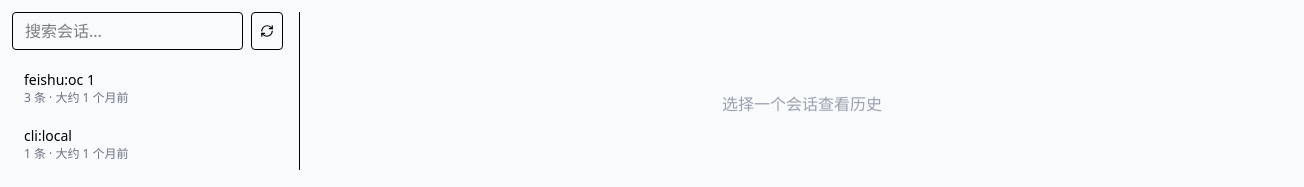
it: Sessions 页 › 点击会话按编码后的 key 拉取历史
What coordinates should you click on to do the following:
click the text "feishu:oc 1"
I would click on:
 (59, 80)
Its box is [24,70,95,89].
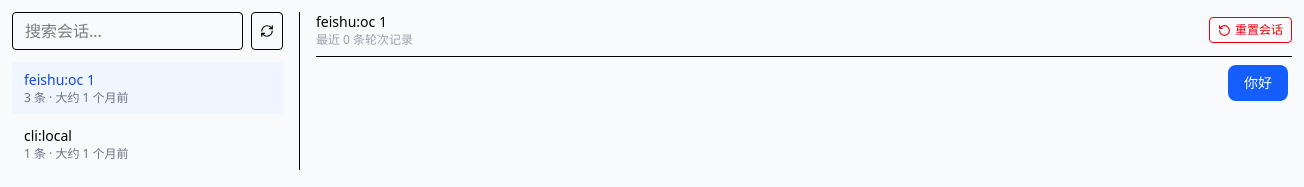
Result: the text "你好" is shown at [1244,73,1272,93]
